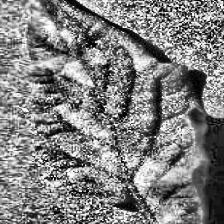leaf mold: (27, 0, 208, 224)
